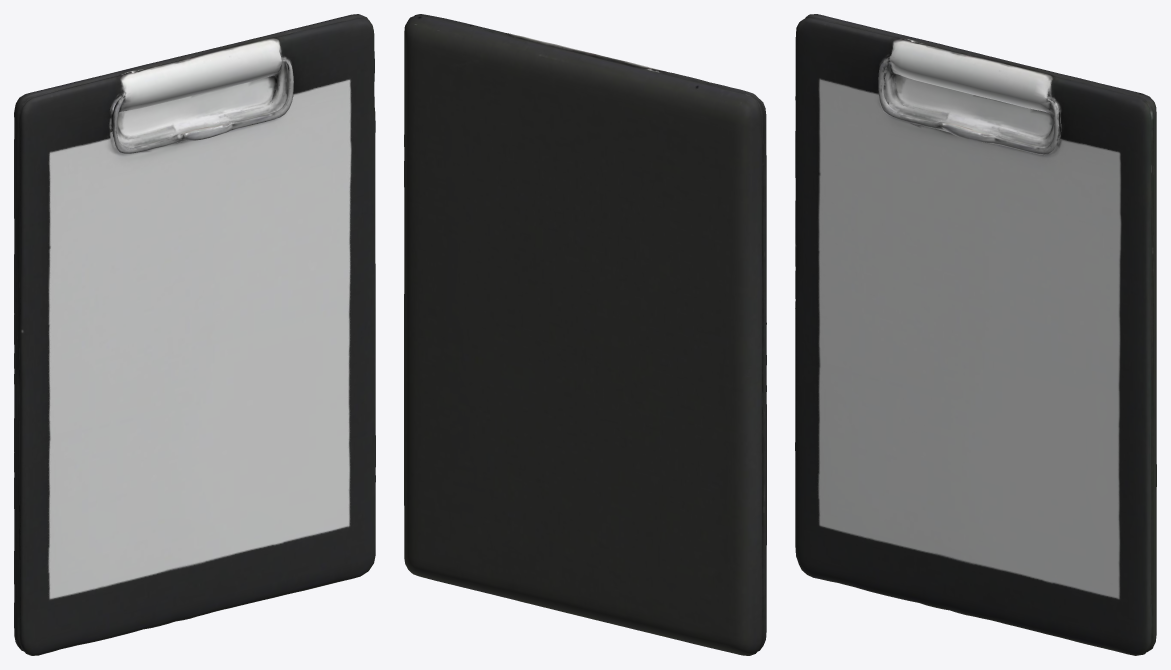
Rendered from Clipboard_Blueprint_0718094554_texture.fbx.
3 renders of one model, left to right at view 1: azimuth 30°, elevation 25°; view 2: azimuth 150°, elevation 25°; view 3: azimuth 330°, elevation 25°, orthographic.
Visible parts, largest first — view 1: Mesh0; view 2: Mesh0; view 3: Mesh0.
Part boxes in pixels (box(x1,y1,x2,y2)): Mesh0: box(14, 14, 375, 655); Mesh0: box(404, 14, 766, 655); Mesh0: box(795, 14, 1156, 655).
Bounding box in the file's own units: 133 × 200 × 15.69.
1 material, 1 textured.
